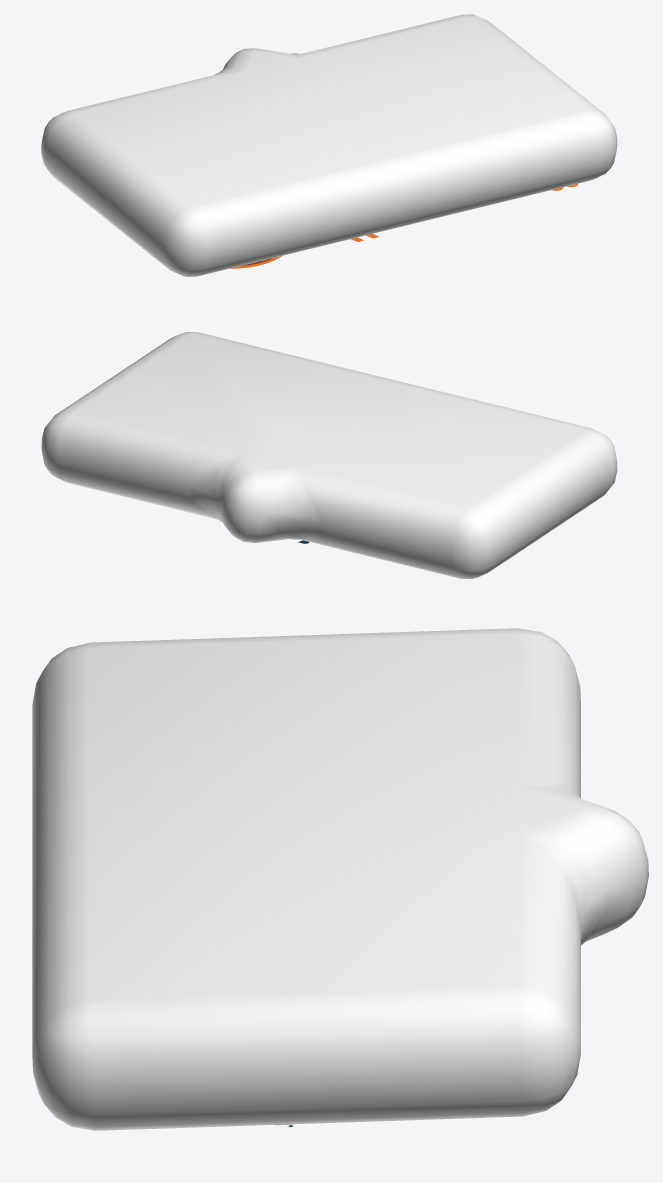
Rendered from asset.glb.
3 views of the same model, one above another, from view 1: azimuth 30°, elevation 25°; view 2: azimuth 150°, elevation 25°; view 3: azimuth 270°, elevation 25° (orthographic). The views are drawn at different scales.
Parts seen in each view (by area): view 1: PRE ENTREGA - COMPONENTES (3); view 2: PRE ENTREGA - COMPONENTES (3); view 3: PRE ENTREGA - COMPONENTES (3).
Boxes of the visible parts, x1,y1,x2,y2 form: PRE ENTREGA - COMPONENTES (3): (41,14,617,276); PRE ENTREGA - COMPONENTES (3): (41,332,617,578); PRE ENTREGA - COMPONENTES (3): (32,628,648,1130).
Bounding box in the file's own units: 12.24 × 2.2 × 7.67.
4 materials, 2 textured.
